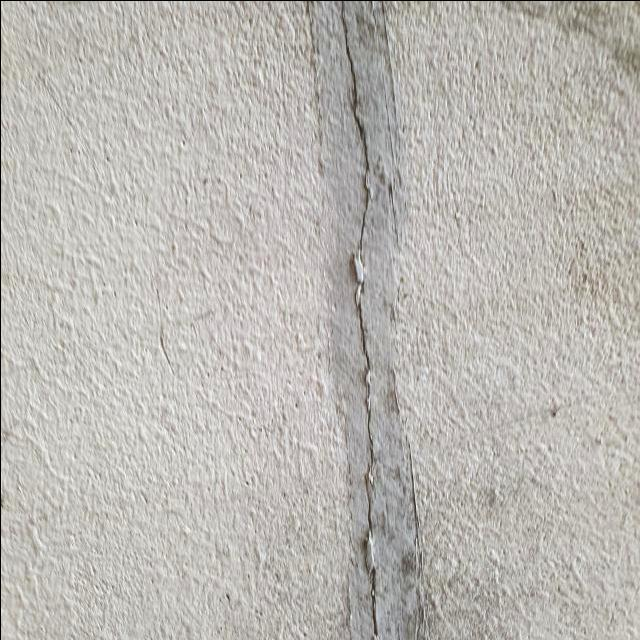SurfaceCrack: (291, 1, 444, 640)
